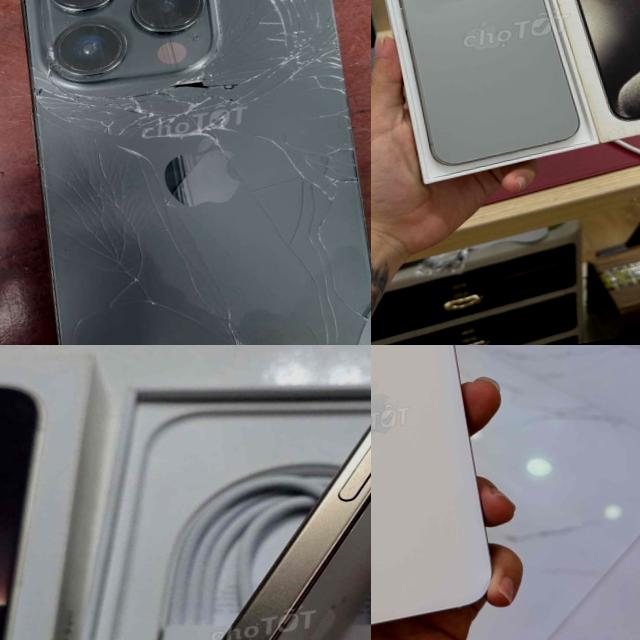physical_damage: (160, 99, 310, 200), (21, 60, 154, 146), (256, 0, 355, 108), (35, 234, 140, 324), (117, 210, 237, 286), (41, 174, 167, 245), (152, 48, 268, 125), (131, 268, 232, 345), (37, 129, 161, 189), (280, 178, 350, 270), (301, 98, 371, 187), (281, 259, 371, 323), (49, 311, 118, 345), (311, 310, 371, 345), (212, 0, 289, 23), (283, 0, 345, 26)
